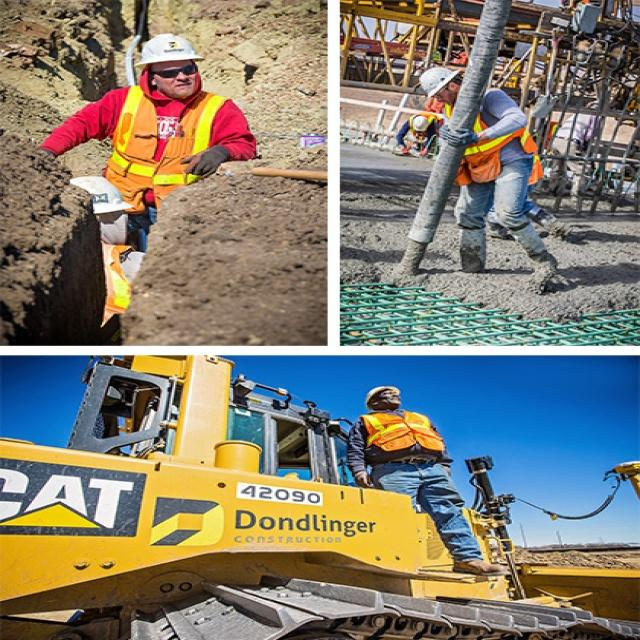helmet: (136, 41, 205, 136), (417, 88, 469, 143), (362, 508, 407, 549), (411, 151, 431, 176)
vest: (110, 116, 231, 264), (451, 136, 542, 255), (357, 547, 455, 621)
